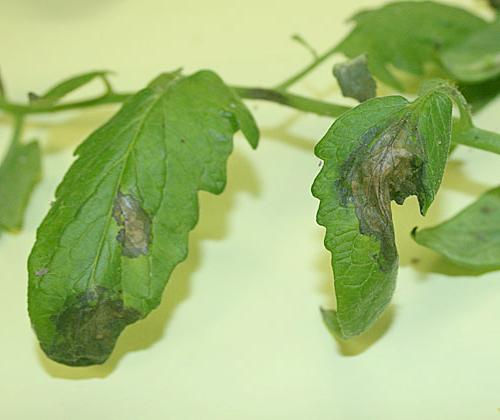Tomato leaf late blight: (26, 39, 256, 386), (313, 78, 454, 363)
